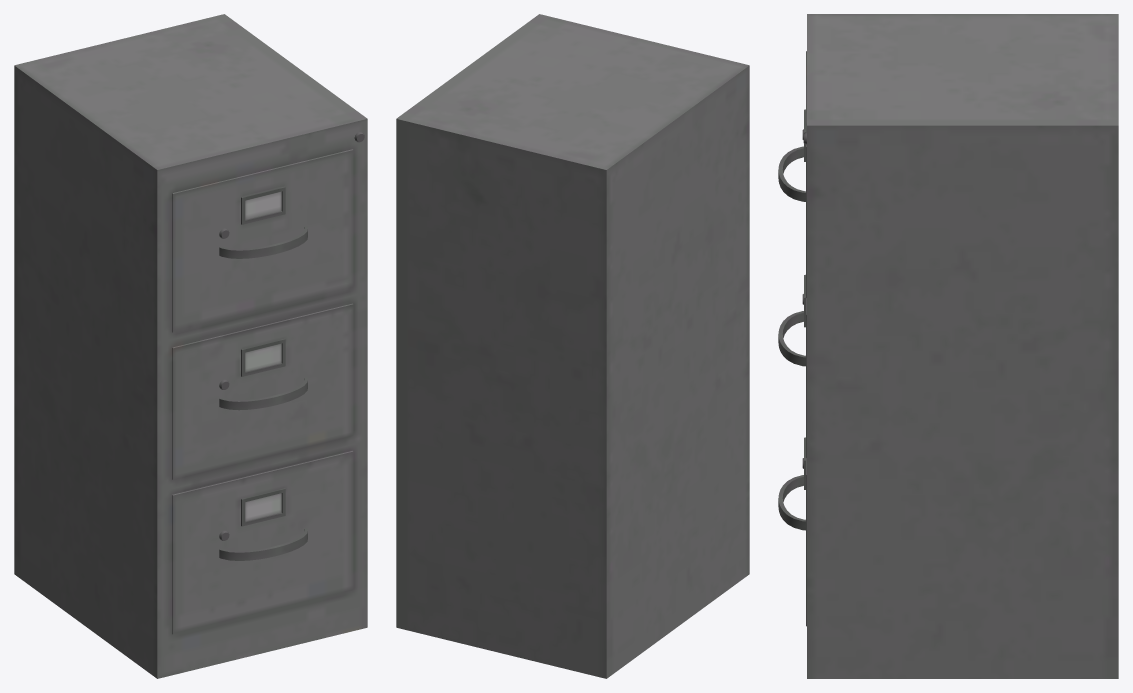
Rendered from cabinet.glb.
The picture shows the model from 3 angles, left to right: view 1: azimuth 30°, elevation 25°; view 2: azimuth 150°, elevation 25°; view 3: azimuth 270°, elevation 25°; orthographic projection. The views are drawn at different scales.
Parts seen in each view (by area): view 1: Filing_Cabinets_3; view 2: Filing_Cabinets_3; view 3: Filing_Cabinets_3.
Part boxes in pixels (x1,y1,x2,y2): Filing_Cabinets_3: [14, 14, 367, 678]; Filing_Cabinets_3: [396, 14, 749, 678]; Filing_Cabinets_3: [778, 14, 1118, 678].
Size of the model in its own units: 0.4498 by 1.04 by 0.5788.
1 material, 1 textured.
